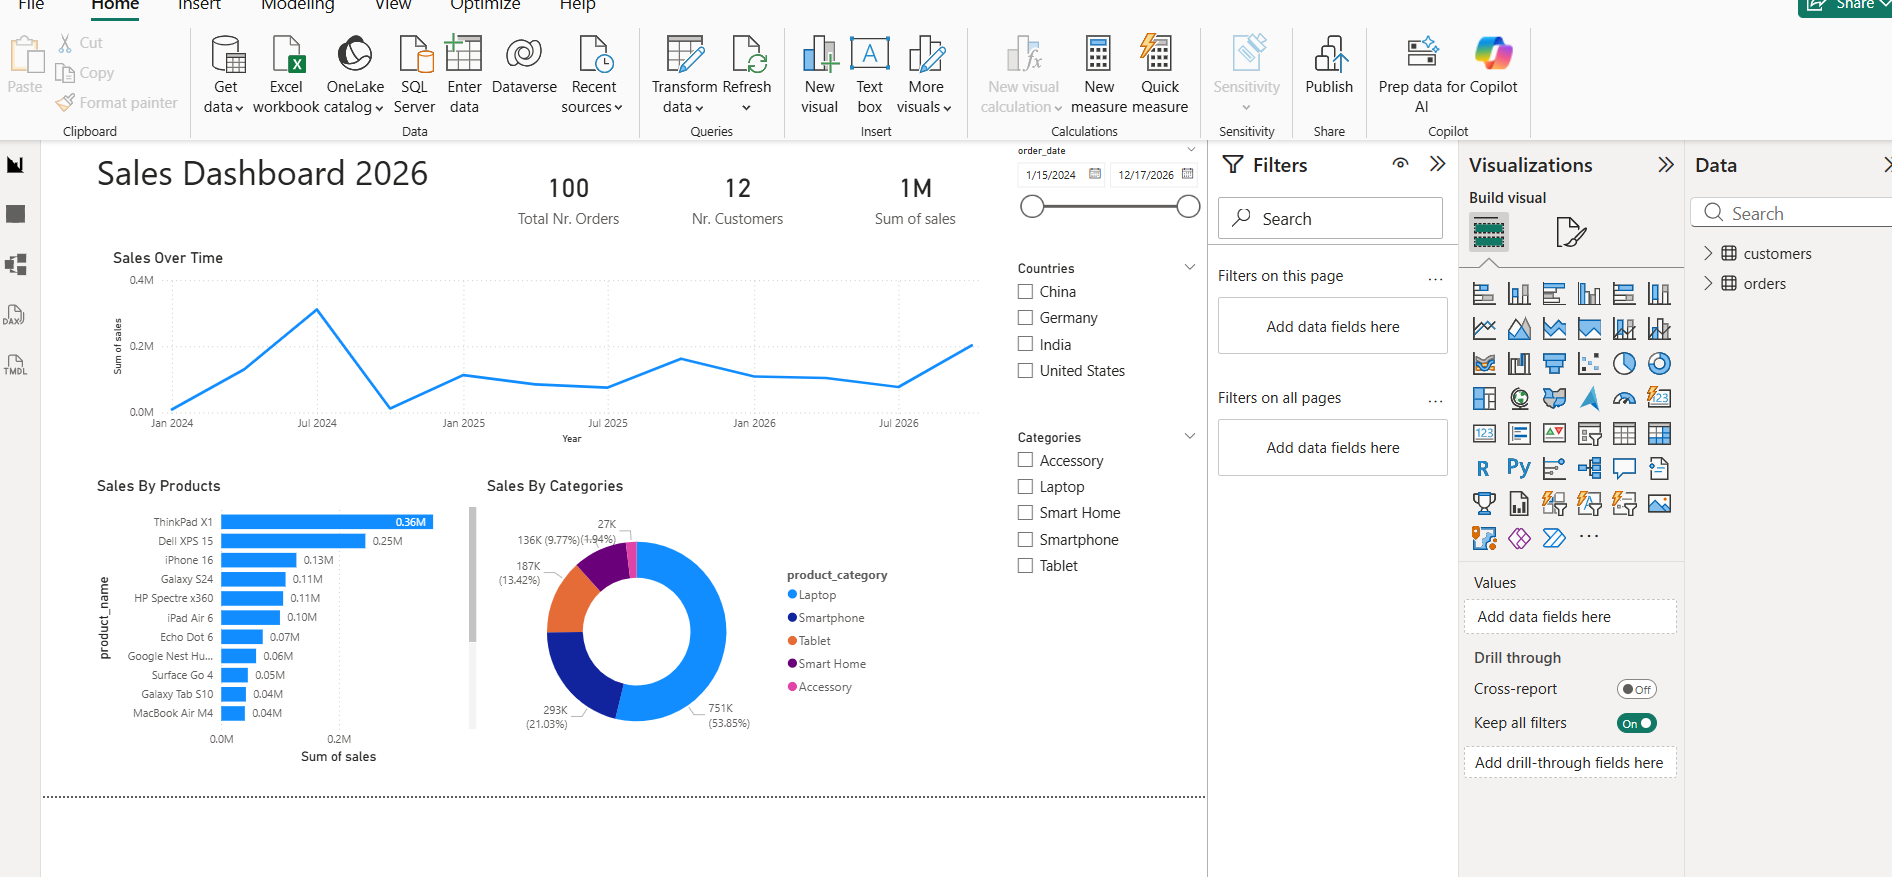

Layout of this report page (visuals, bound fields, positions):
{"tool":"powerbi","page":{"name":"Page 1","canvas":[1280,720],"ordinal":0},"visuals":[{"type":"barChart","title":"Sales By Products","fields":{"Category":["orders.product_name"],"Y":["Sum(orders.sales)"]},"box":[55.6,369.8,426.7,320.6],"z":0},{"type":"donutChart","title":"Sales By Categories","fields":{"Y":["Sum(orders.sales)"],"Category":["orders.product_category"]},"box":[484.8,369.8,465.5,320.6],"z":1000},{"type":"card","fields":{"Values":["CountNonNull(orders.order_id)"]},"box":[504.2,0,151.3,122.8],"z":2000},{"type":"card","fields":{"Values":["Count(orders.customer_id)"]},"box":[680.1,0,168.1,122.8],"z":3000},{"type":"card","fields":{"Values":["Sum(orders.sales)"]},"box":[862.4,0,196.5,122.8],"z":4000},{"type":"lineChart","title":"Sales Over Time","fields":{"Category":["orders.order_date.Variation.Date Hierarchy.Year","orders.order_date.Variation.Date Hierarchy.Quarter","orders.order_date.Variation.Date Hierarchy.Month","orders.order_date.Variation.Date Hierarchy.Day"],"Y":["Sum(orders.sales)"]},"box":[73.7,118.9,974.9,219.8],"z":5000},{"type":"slicer","fields":{"Values":["customers.country"]},"box":[1058.9,128,221.1,153.9],"z":6000},{"type":"slicer","fields":{"Values":["orders.product_category"]},"box":[1058.9,312.9,221.1,196.5],"z":7000},{"type":"slicer","fields":{"Values":["orders.order_date"]},"box":[1058.9,0,221.1,128],"z":8000},{"type":"textbox","box":[55.6,3.9,426.7,75],"z":9000}]}

Visuals, with their boxes on the page's 1280x720 design canvas (x1, y1, x2, y2). These are canvas units, not pixel positions in the 1892x877 screenshot, which may show the page scaled, cropped or inside an application window:
"Sales By Products" barChart: rect(56, 370, 482, 690)
"Sales By Categories" donutChart: rect(485, 370, 950, 690)
card - CountNonNull(orders.order_id): rect(504, 0, 656, 123)
card - Count(orders.customer_id): rect(680, 0, 848, 123)
card - Sum(orders.sales): rect(862, 0, 1059, 123)
"Sales Over Time" lineChart: rect(74, 119, 1049, 339)
slicer - customers.country: rect(1059, 128, 1280, 282)
slicer - orders.product_category: rect(1059, 313, 1280, 509)
slicer - orders.order_date: rect(1059, 0, 1280, 128)
textbox: rect(56, 4, 482, 79)
